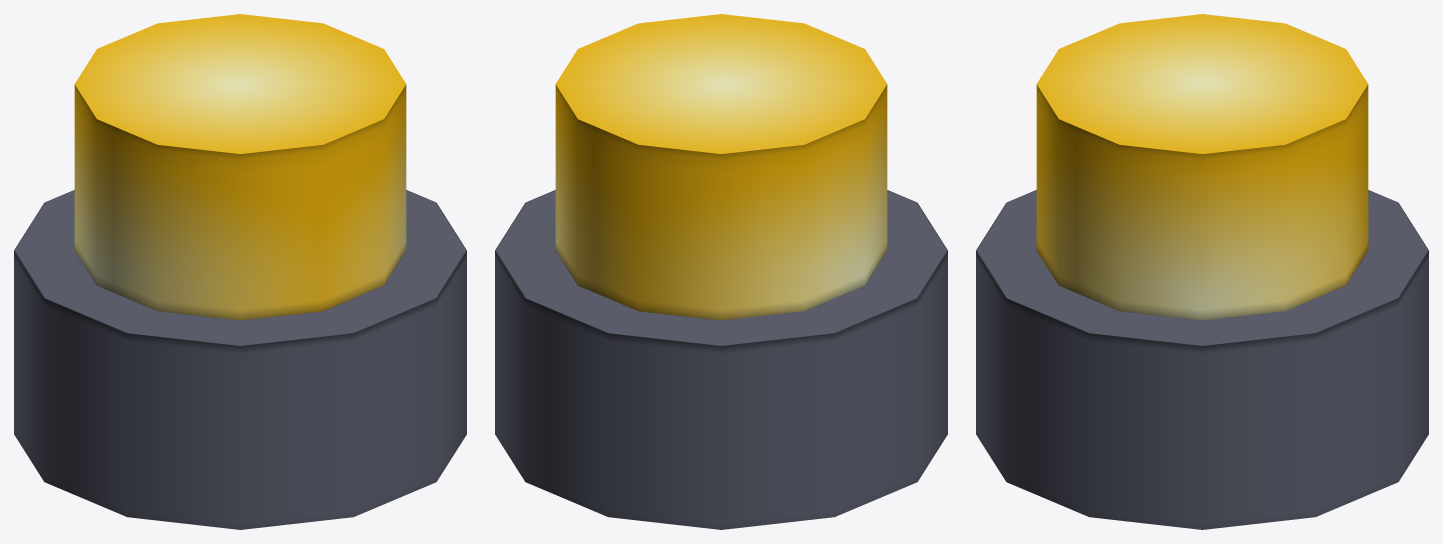
Rendered from Button_Circular_Yellow.FBX.
The picture shows the model from 3 angles, left to right: view 1: azimuth 30°, elevation 25°; view 2: azimuth 150°, elevation 25°; view 3: azimuth 270°, elevation 25°; orthographic projection.
Parts seen in each view (by area): view 1: Button_Circular_Yellow, Push_Me; view 2: Button_Circular_Yellow, Push_Me; view 3: Button_Circular_Yellow, Push_Me.
Part boxes in pixels (bbox=[...]): Button_Circular_Yellow: bbox=[14, 190, 466, 529]; Push_Me: bbox=[74, 14, 406, 320]; Button_Circular_Yellow: bbox=[495, 190, 947, 529]; Push_Me: bbox=[555, 14, 887, 320]; Button_Circular_Yellow: bbox=[976, 190, 1428, 529]; Push_Me: bbox=[1036, 14, 1368, 320].
Size of the model in its own units: 0.0863 by 0.0736 by 0.0863.
1 material, 1 textured.
